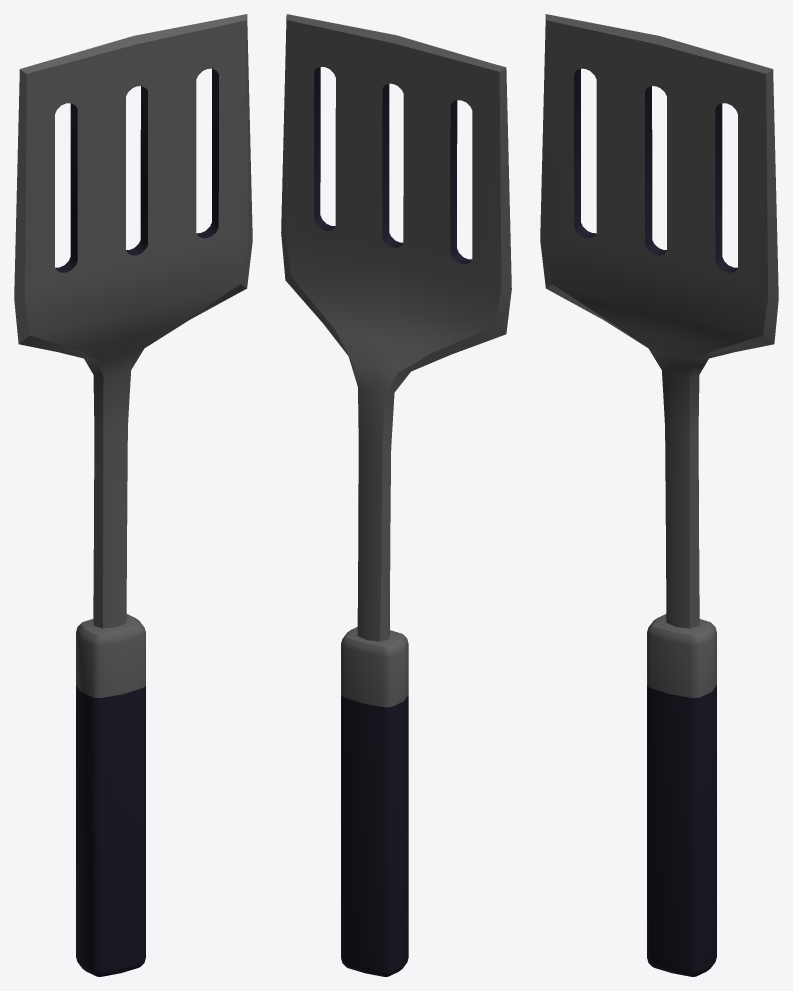
Rendered from spatula.fbx.
The picture shows the model from 3 angles, left to right: view 1: azimuth 30°, elevation 25°; view 2: azimuth 150°, elevation 25°; view 3: azimuth 330°, elevation 25°; orthographic projection. The views are drawn at different scales.
Visible parts, largest first — view 1: Spatula; view 2: Spatula; view 3: Spatula.
Boxes of the visible parts, left/top/right/bottom form: Spatula: left=14, top=14, right=252, bottom=976; Spatula: left=281, top=14, right=511, bottom=976; Spatula: left=540, top=14, right=778, bottom=976.
Bounding box in the file's own units: 30.36 × 108 × 410.
